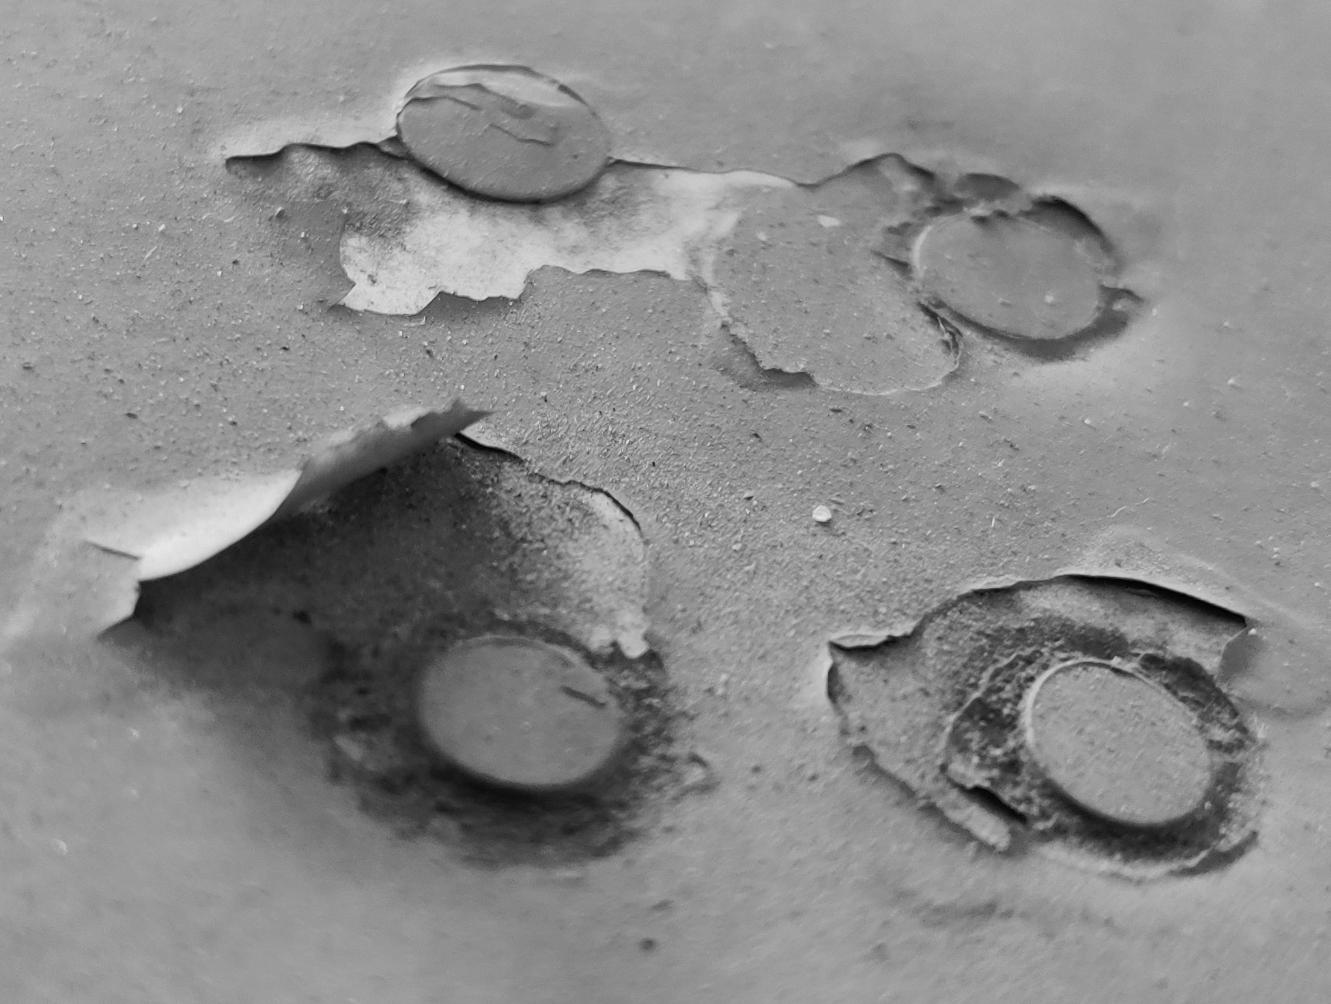paint-off: (0, 1, 1331, 1004)
